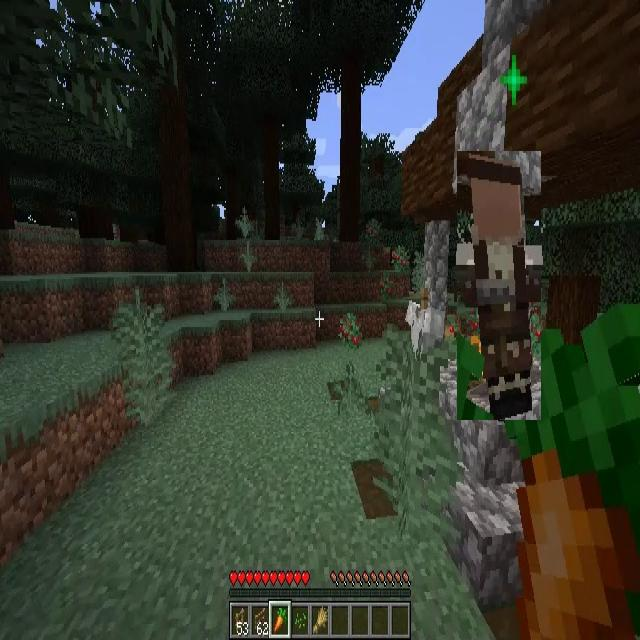people: (457, 151, 541, 420)
